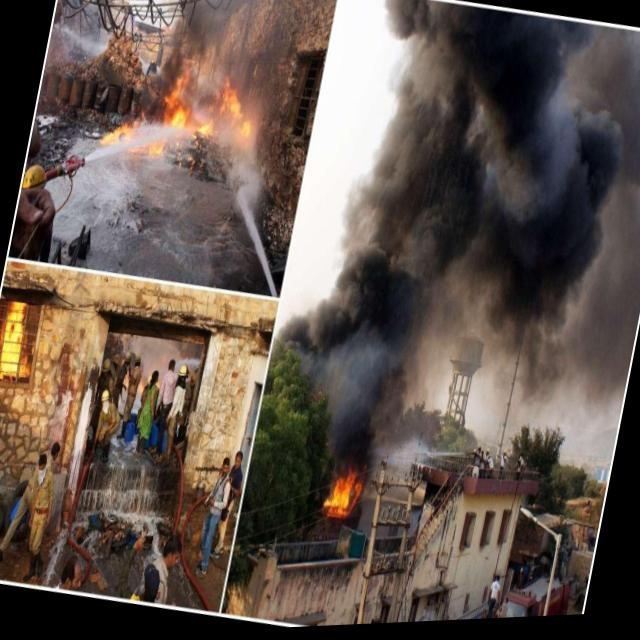fire: (101, 56, 265, 186), (0, 299, 42, 387), (318, 463, 369, 529), (136, 381, 146, 395)
